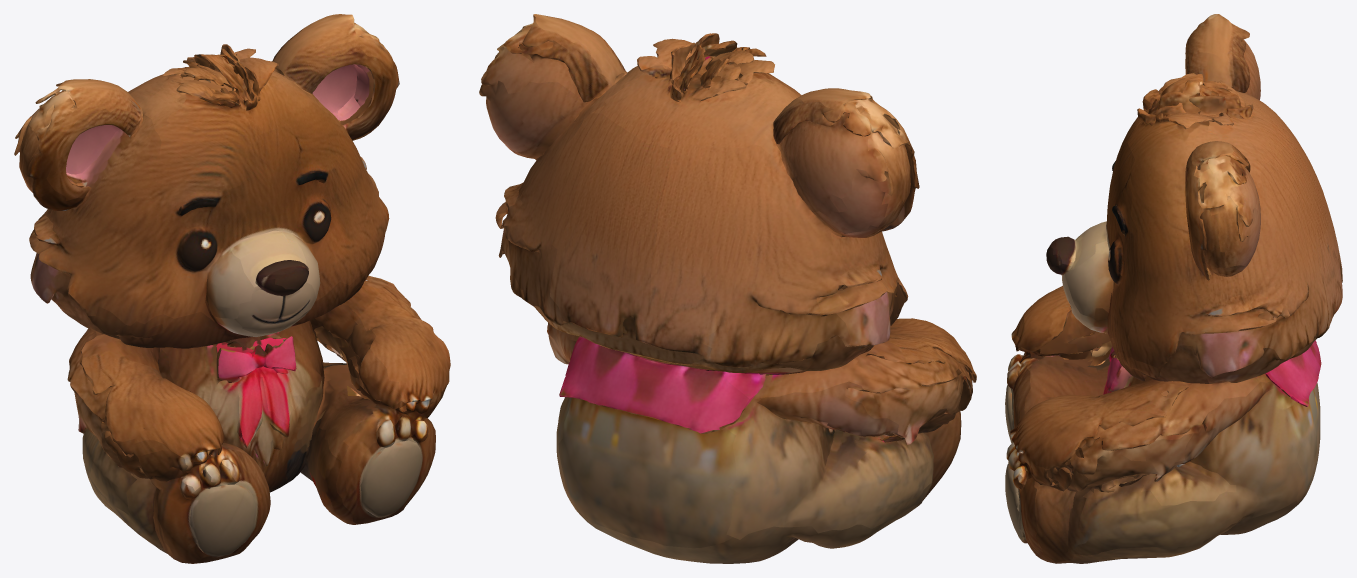
3 renders of one model, left to right at view 1: azimuth 30°, elevation 25°; view 2: azimuth 150°, elevation 25°; view 3: azimuth 270°, elevation 25°, orthographic. The views are drawn at different scales.
Visible parts, largest first — view 1: textured; view 2: textured; view 3: textured.
Boxes of the visible parts, <box> form: textured: <box>14,14,450,563</box>; textured: <box>479,14,976,563</box>; textured: <box>1005,14,1342,563</box>.
Size of the model in its own units: 1.78 by 1.99 by 1.4.
Materials: 1 (1 with a texture image).
